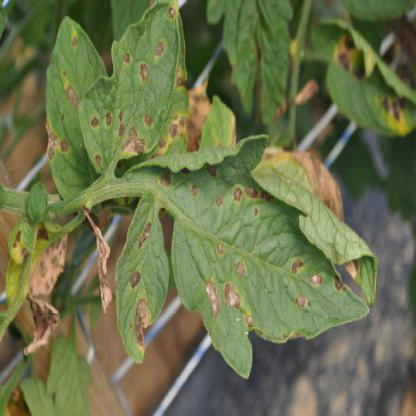tomato septoria leaf spot: (142, 128, 378, 382), (80, 4, 192, 179), (110, 190, 173, 363)
